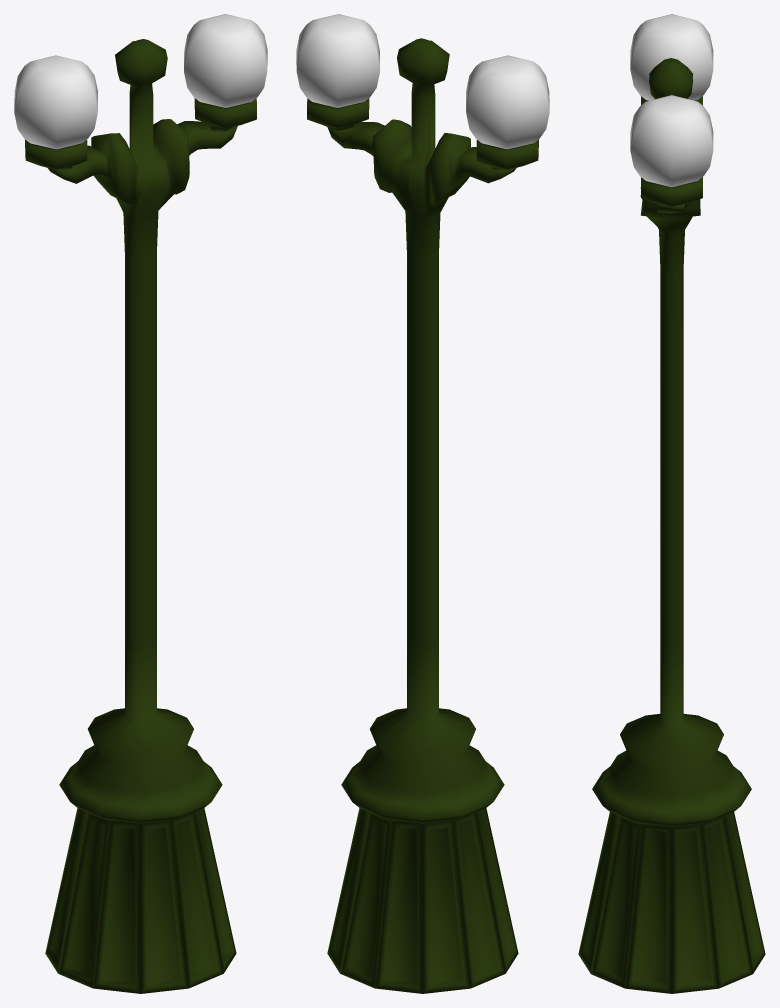
Rendered from lampara02.fbx.
The picture shows the model from 3 angles, left to right: view 1: azimuth 30°, elevation 25°; view 2: azimuth 150°, elevation 25°; view 3: azimuth 270°, elevation 25°; orthographic projection. The views are drawn at different scales.
Visible parts, largest first — view 1: lampara; view 2: lampara; view 3: lampara.
Boxes of the visible parts, box(x1,y1,x2,y2) form: lampara: box(14, 14, 267, 993); lampara: box(296, 14, 549, 993); lampara: box(578, 14, 765, 993).
Bounding box in the file's own units: 306 × 1053 × 200.
